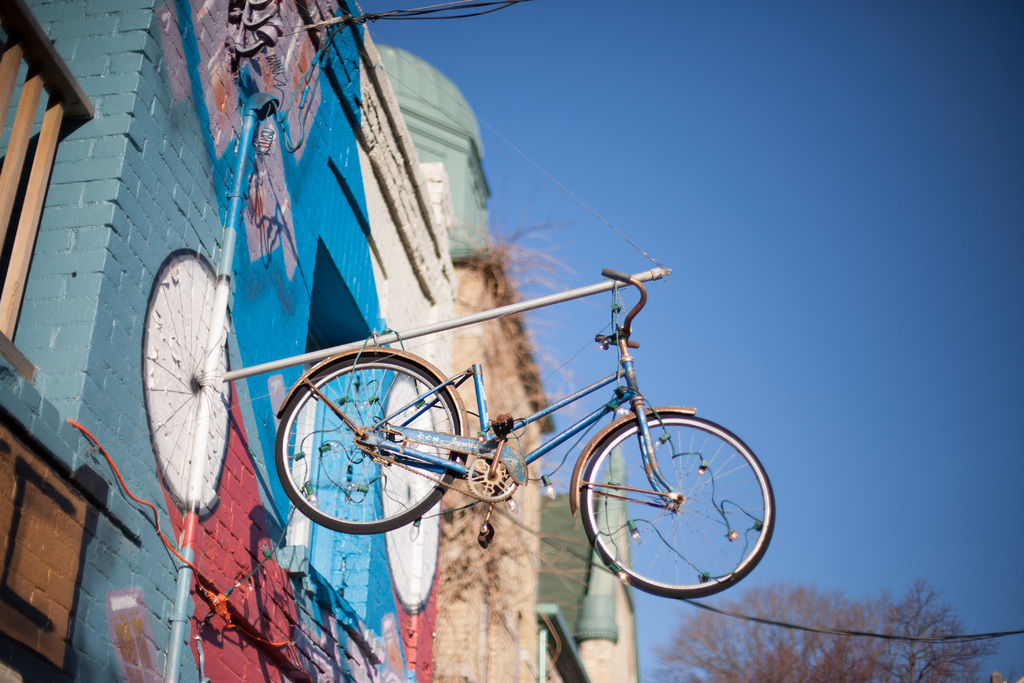Tree: (653, 583, 902, 682)
